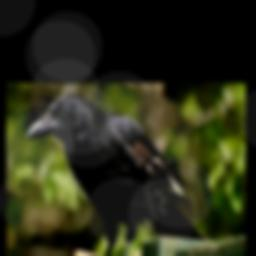Crow: (26, 93, 206, 256)
